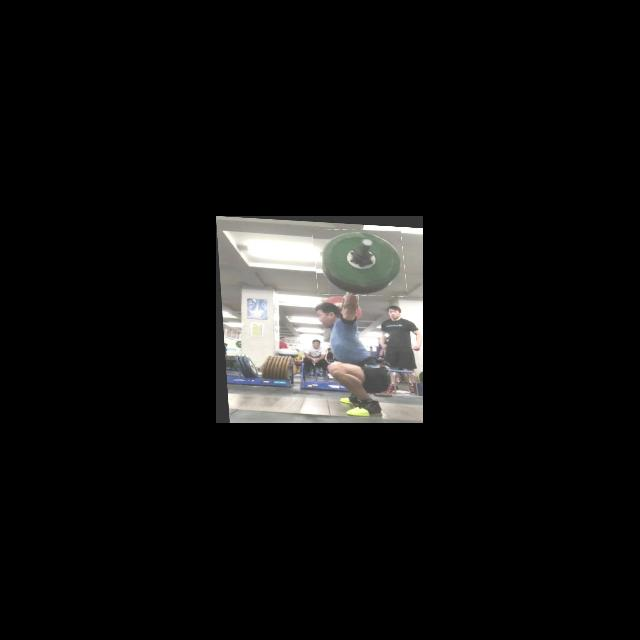barbell: (312, 225, 406, 296)
